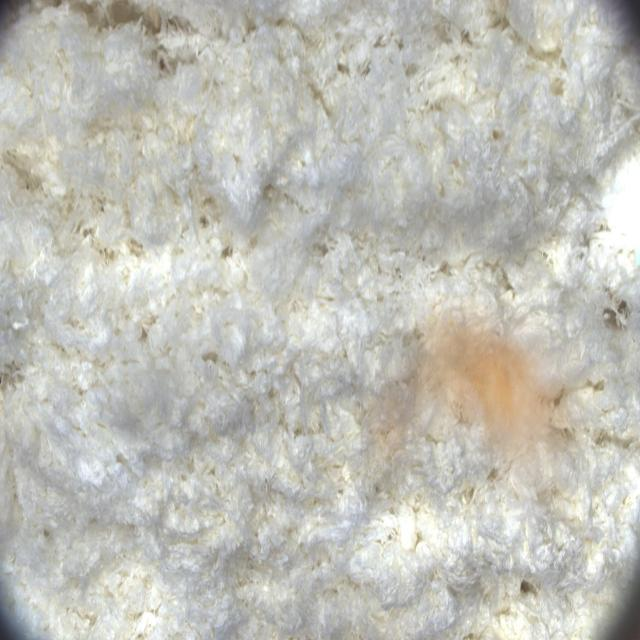dust: (361, 292, 600, 517)
